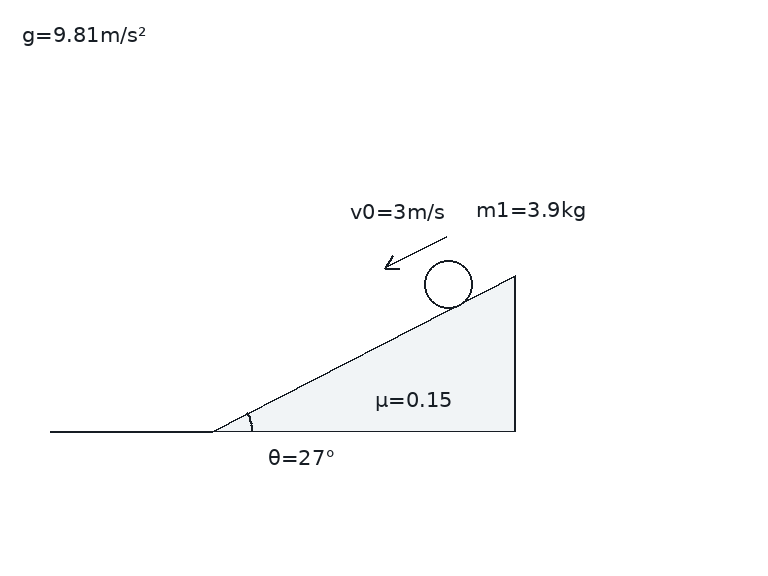ball: (422, 258, 474, 310)
ramp: (210, 275, 516, 433)
